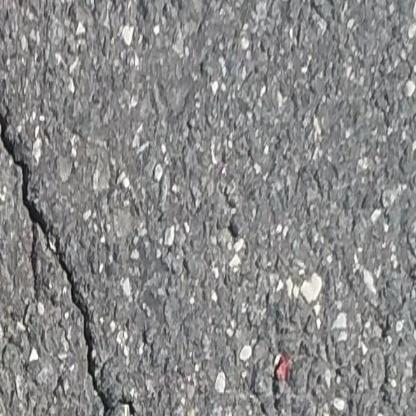Cracks: (0, 68, 175, 416)
